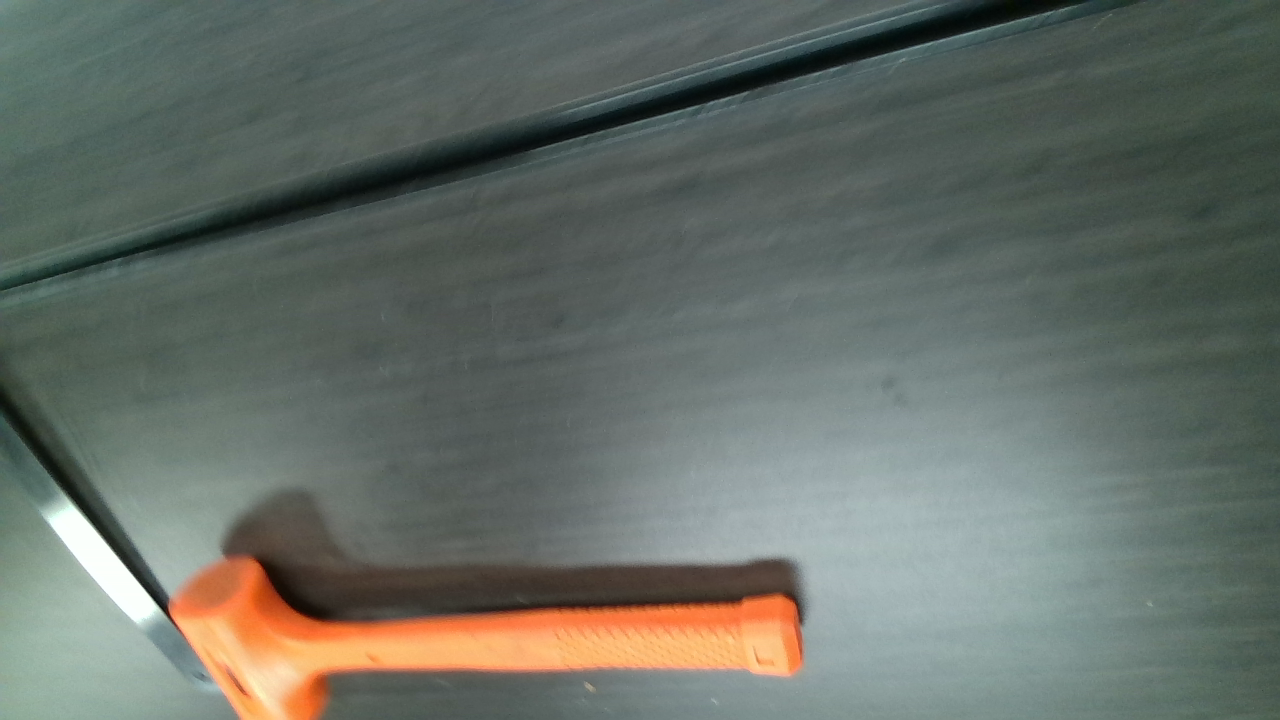Orange Hammer: (172, 555, 802, 719)
